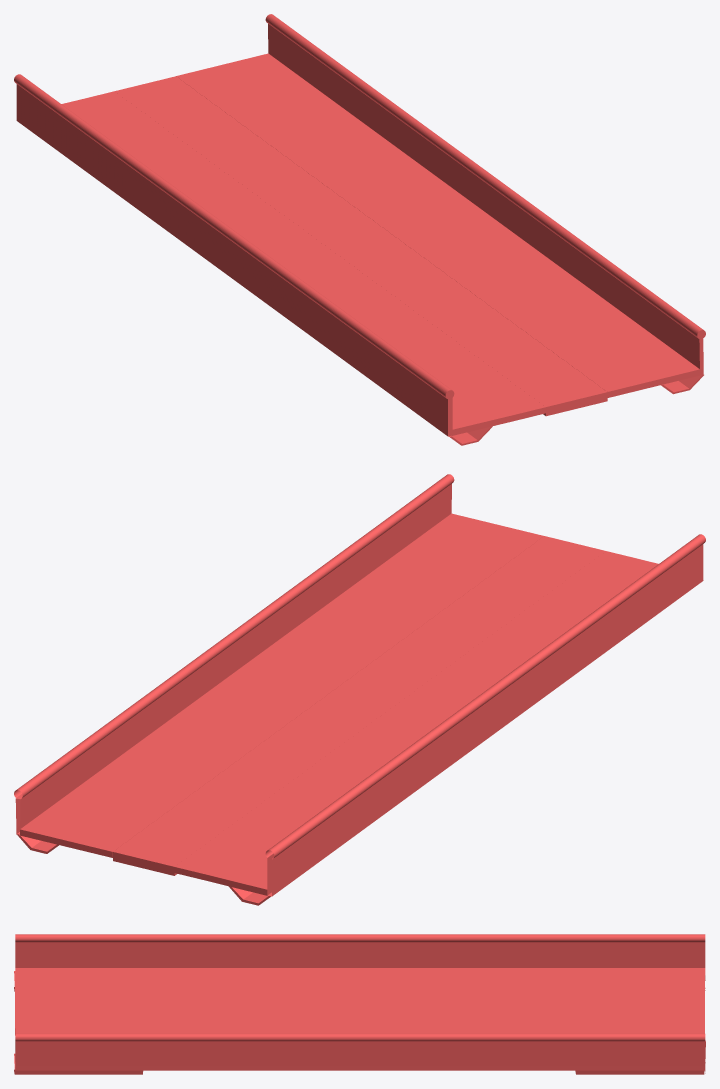
File: trackpiece-md-placed.glb
The picture shows the model from 3 angles, top to bottom: view 1: azimuth 30°, elevation 25°; view 2: azimuth 150°, elevation 25°; view 3: azimuth 270°, elevation 25°; orthographic projection. The views are drawn at different scales.
Visible parts, largest first — view 1: Track piece/short; view 2: Track piece/short; view 3: Track piece/short.
Part boxes in pixels (bbox=[...]): Track piece/short: bbox=[14, 14, 705, 445]; Track piece/short: bbox=[14, 474, 705, 905]; Track piece/short: bbox=[14, 934, 705, 1074].
Bounding box in the file's own units: 8.34 × 1.78 × 24.
